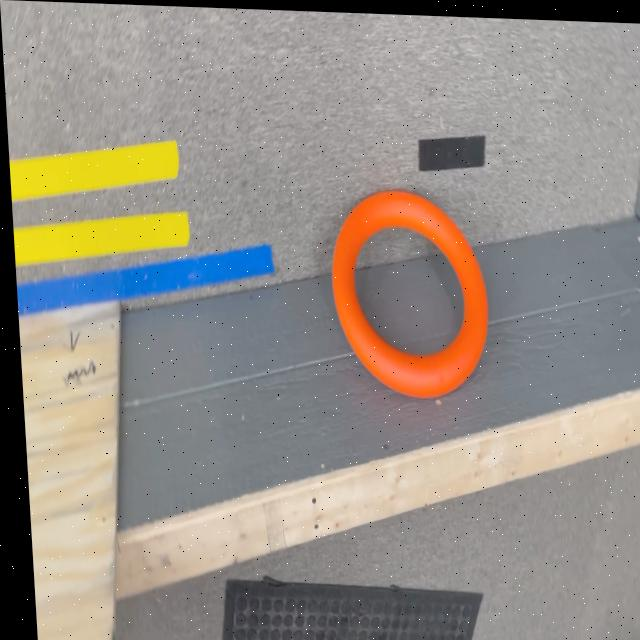note: (320, 181, 484, 392)
